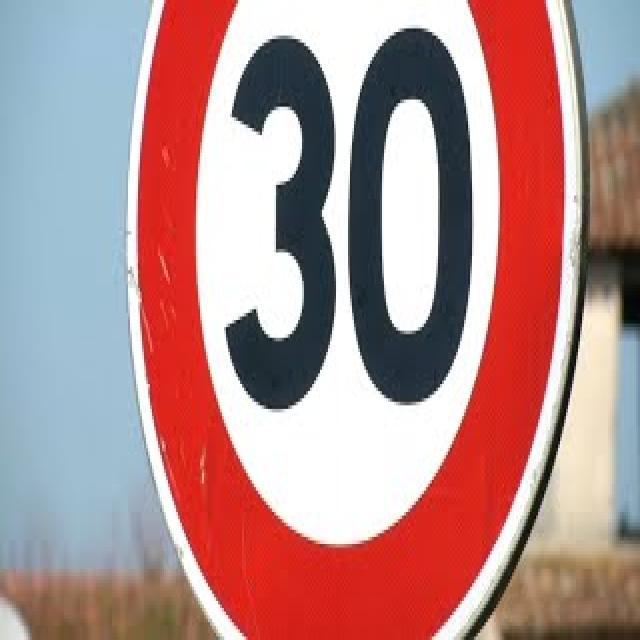speed_30: (127, 0, 590, 640)
